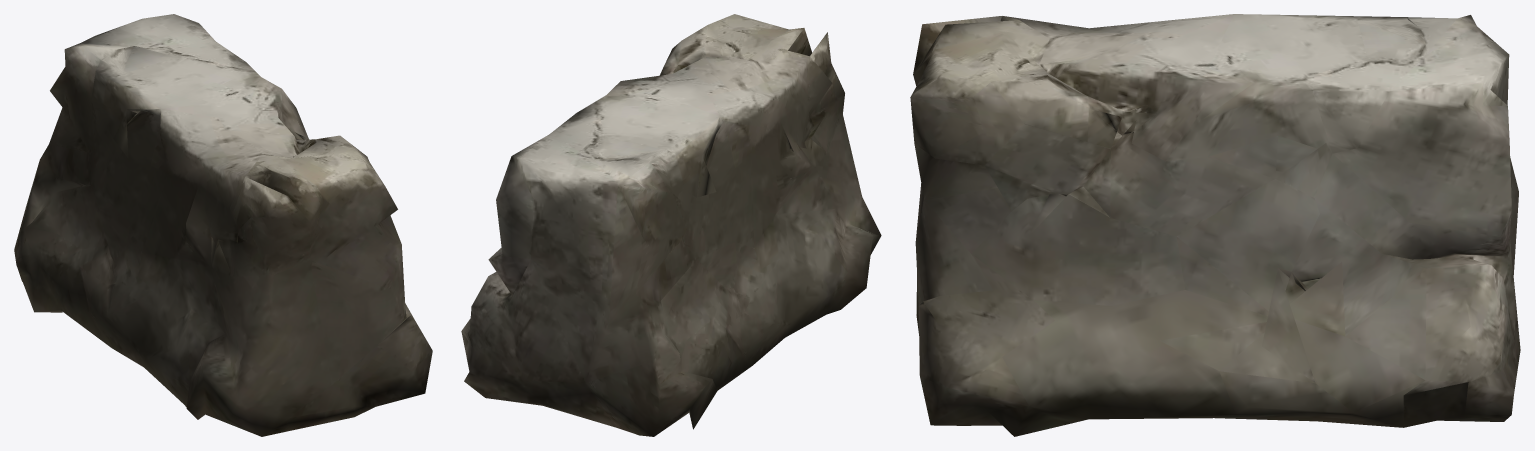
File: e_block.glb
The picture shows the model from 3 angles, left to right: view 1: azimuth 30°, elevation 25°; view 2: azimuth 150°, elevation 25°; view 3: azimuth 270°, elevation 25°; orthographic projection. The views are drawn at different scales.
Visible parts, largest first — view 1: tripo_node_2c28f903-65be-4e29-bb8e-a373251f52a2; view 2: tripo_node_2c28f903-65be-4e29-bb8e-a373251f52a2; view 3: tripo_node_2c28f903-65be-4e29-bb8e-a373251f52a2.
Boxes of the visible parts, bbox=[...] form: tripo_node_2c28f903-65be-4e29-bb8e-a373251f52a2: bbox=[14, 14, 432, 436]; tripo_node_2c28f903-65be-4e29-bb8e-a373251f52a2: bbox=[461, 14, 881, 436]; tripo_node_2c28f903-65be-4e29-bb8e-a373251f52a2: bbox=[910, 14, 1520, 436].
Size of the model in its own units: 0.5957 by 0.6029 by 1.
1 material, 1 textured.
